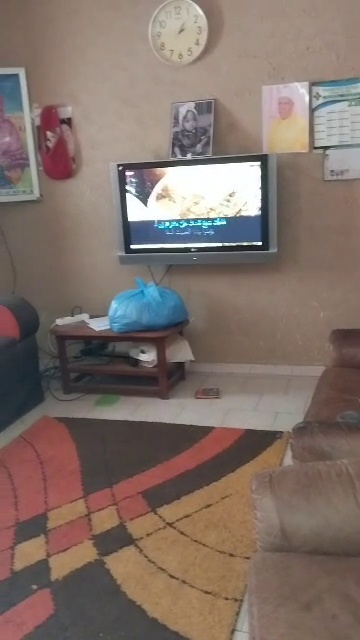television: (99, 145, 295, 274)
